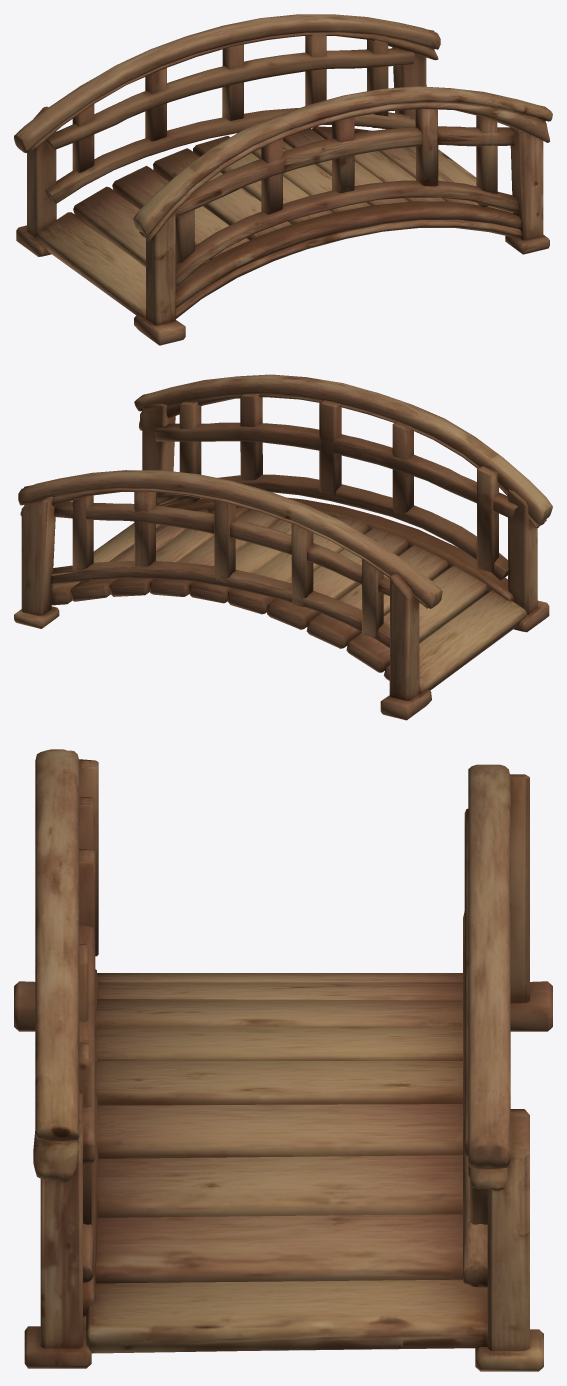
Rendered from wooden_bridge.glb.
3 renders of one model, top to bottom at view 1: azimuth 30°, elevation 25°; view 2: azimuth 150°, elevation 25°; view 3: azimuth 270°, elevation 25°, orthographic. The views are drawn at different scales.
Visible parts, largest first — view 1: tripo_node_8dd48858-a637-453a-a232-4052cdaab481; view 2: tripo_node_8dd48858-a637-453a-a232-4052cdaab481; view 3: tripo_node_8dd48858-a637-453a-a232-4052cdaab481.
Part boxes in pixels (x1,y1,x2,y2): tripo_node_8dd48858-a637-453a-a232-4052cdaab481: [14, 14, 552, 345]; tripo_node_8dd48858-a637-453a-a232-4052cdaab481: [14, 374, 552, 720]; tripo_node_8dd48858-a637-453a-a232-4052cdaab481: [14, 749, 552, 1371].
Size of the model in its own units: 5 by 2.2 by 2.98.
Materials: 1 (1 with a texture image).
